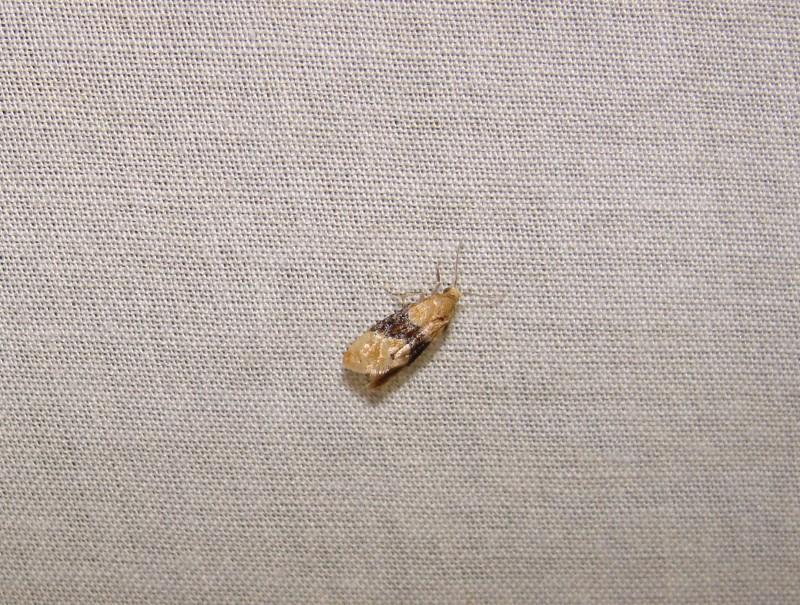Eupoecilia Ambiguella: (339, 234, 508, 392)
